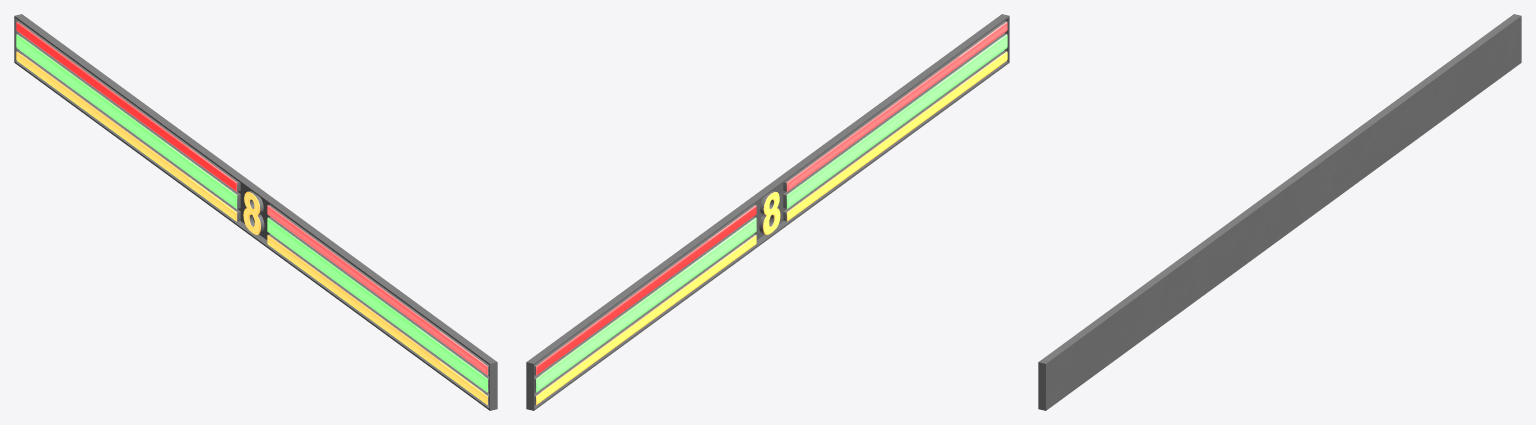
Rendered from SM_KonbiniSign_01.fbx.
3 renders of one model, left to right at view 1: azimuth 30°, elevation 25°; view 2: azimuth 150°, elevation 25°; view 3: azimuth 330°, elevation 25°, orthographic.
Visible parts, largest first — view 1: SM_KonbiniSign_01_LOD0; view 2: SM_KonbiniSign_01_LOD0; view 3: SM_KonbiniSign_01_LOD0.
Part boxes in pixels (x1=…): SM_KonbiniSign_01_LOD0: x1=14, y1=14, x2=497, y2=410; SM_KonbiniSign_01_LOD0: x1=526, y1=14, x2=1009, y2=410; SM_KonbiniSign_01_LOD0: x1=1038, y1=14, x2=1521, y2=410.
Size of the model in its own units: 11 by 1100 by 60.
